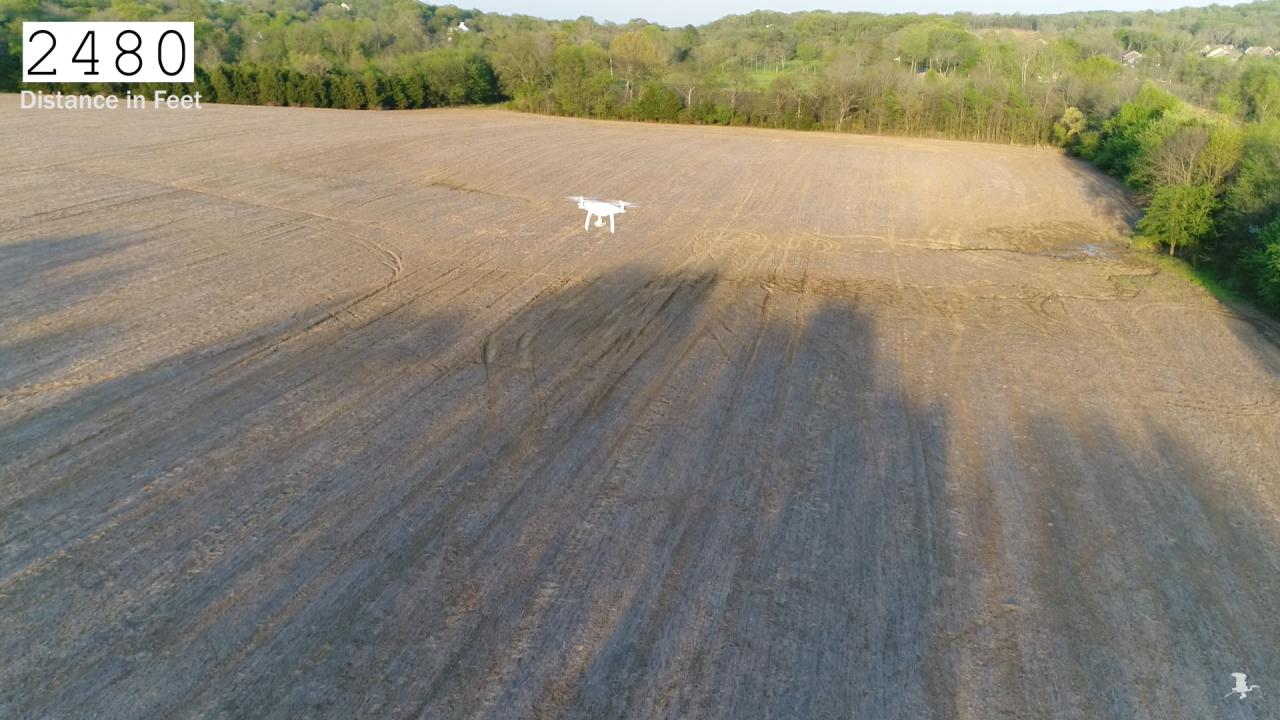Drone: (561, 185, 645, 240)
